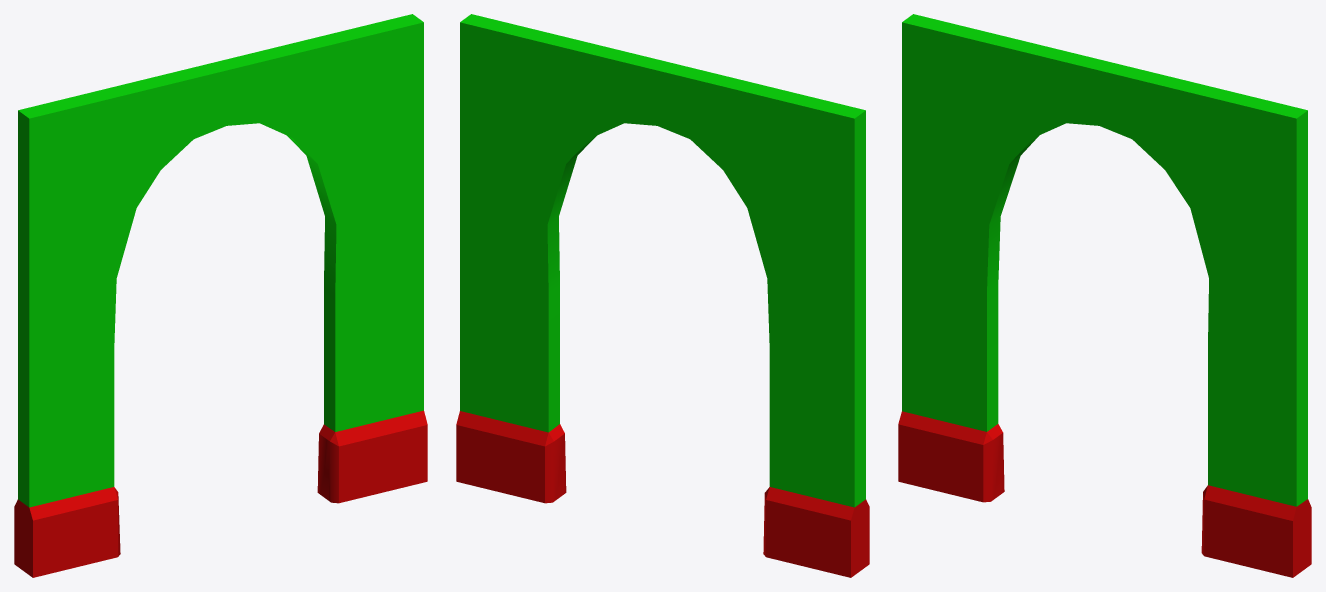
The model's file is ArchMed_Nice.fbx.
The picture shows the model from 3 angles, left to right: view 1: azimuth 30°, elevation 25°; view 2: azimuth 150°, elevation 25°; view 3: azimuth 330°, elevation 25°; orthographic projection.
Visible parts, largest first — view 1: Archeway_Medium; view 2: Archeway_Medium; view 3: Archeway_Medium.
Boxes of the visible parts, x1,y1,x2,y2 form: Archeway_Medium: (14, 14, 427, 577); Archeway_Medium: (456, 14, 869, 577); Archeway_Medium: (898, 14, 1311, 577).
Bounding box in the file's own units: 600 × 663 × 49.25.
